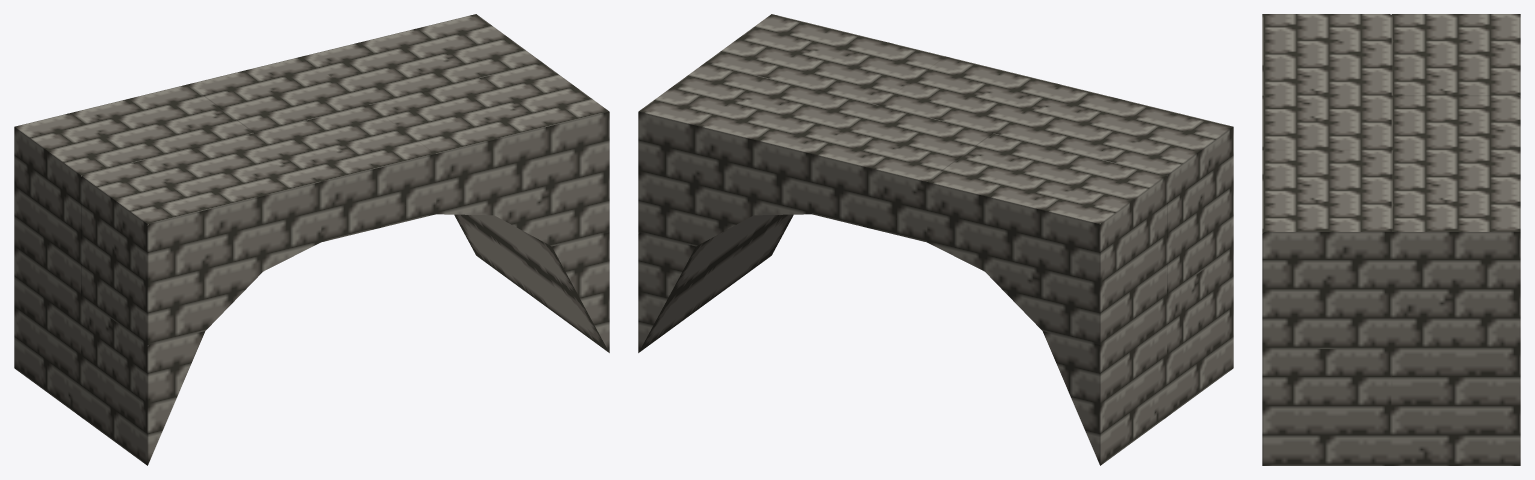
File: Ceiling_Arch_Wide_x1.fbx
The picture shows the model from 3 angles, left to right: view 1: azimuth 30°, elevation 25°; view 2: azimuth 150°, elevation 25°; view 3: azimuth 270°, elevation 25°; orthographic projection. The views are drawn at different scales.
Visible parts, largest first — view 1: Ceiling_Arch_Wide_x1; view 2: Ceiling_Arch_Wide_x1; view 3: Ceiling_Arch_Wide_x1.
Boxes of the visible parts, <box> form: Ceiling_Arch_Wide_x1: <box>14,14,609,465</box>; Ceiling_Arch_Wide_x1: <box>638,14,1233,465</box>; Ceiling_Arch_Wide_x1: <box>1262,14,1520,465</box>.
Size of the model in its own units: 800 by 400 by 400.
1 material, 1 textured.
